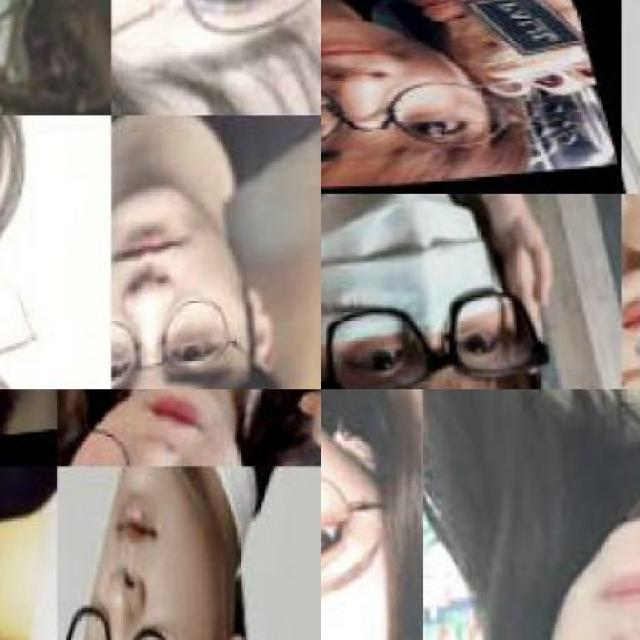glasses: (320, 282, 563, 388), (320, 446, 400, 639), (110, 290, 262, 388), (320, 68, 514, 144), (57, 568, 226, 638)
